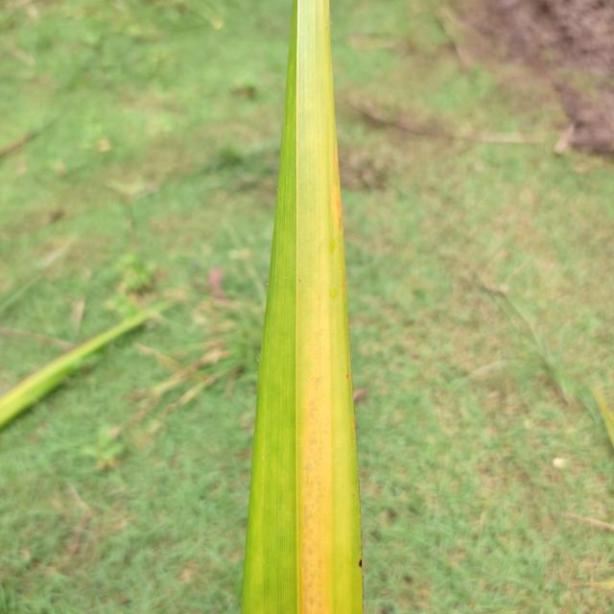nitrogen: (237, 0, 361, 614)
